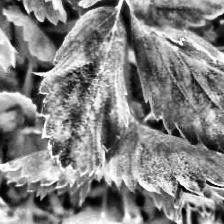Powdery Mildew Leaf: (95, 114, 224, 198), (0, 148, 95, 201)
